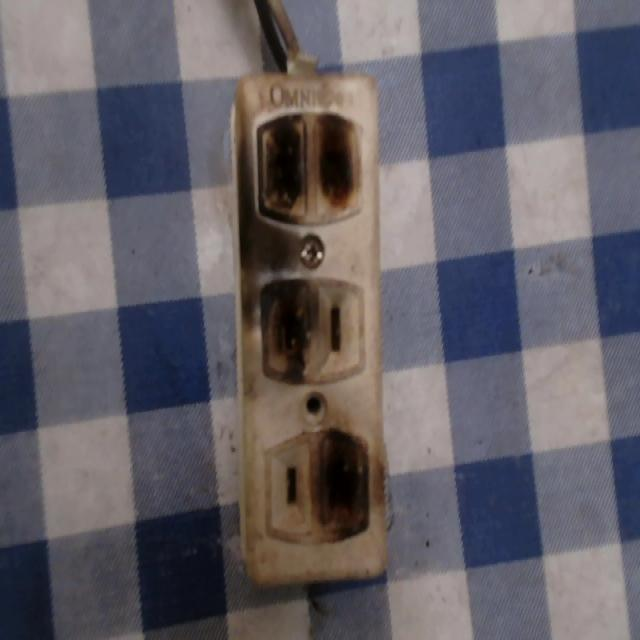-: (242, 111, 372, 233), (257, 264, 318, 385), (315, 432, 376, 540)
